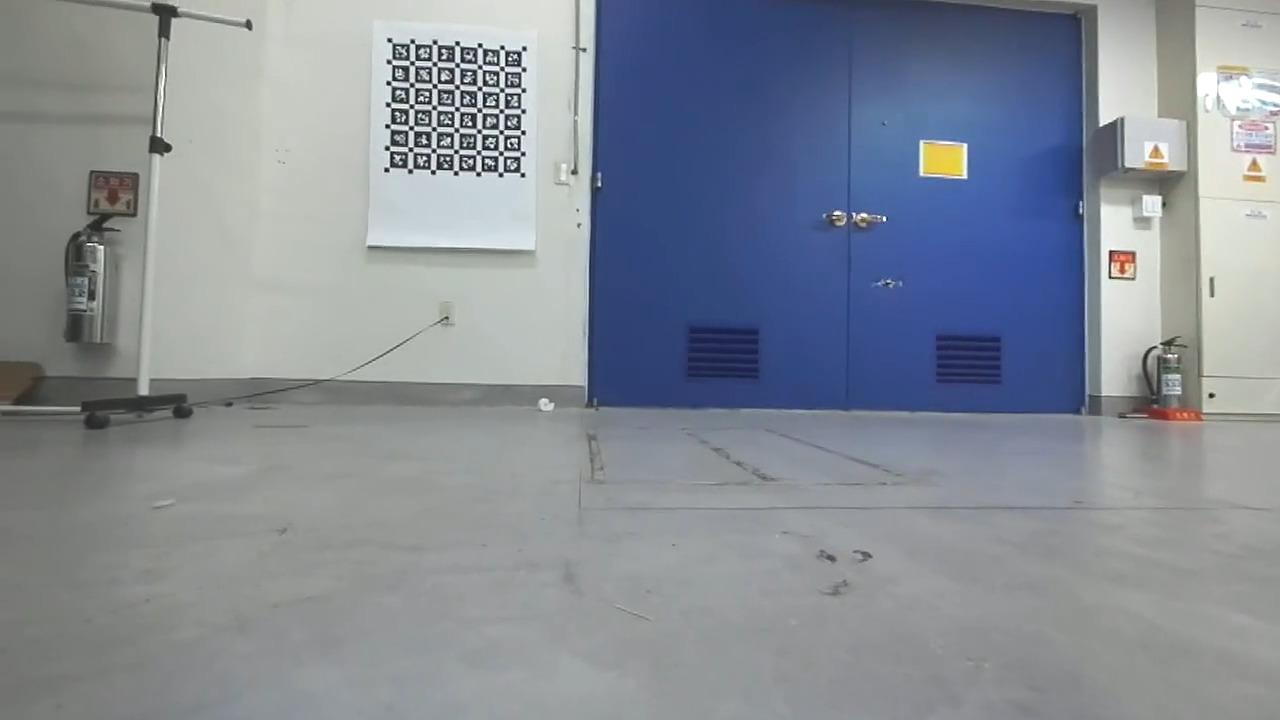crazyflie: (869, 274, 907, 293)
